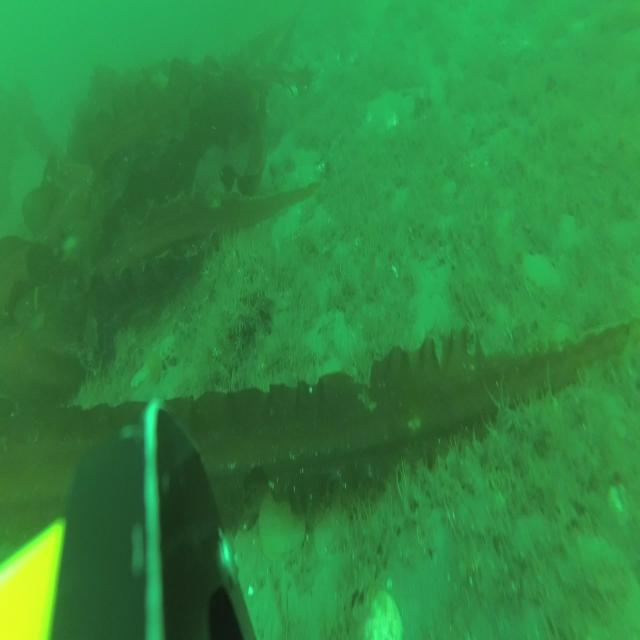scallop: (257, 491, 307, 562), (364, 588, 402, 640)
